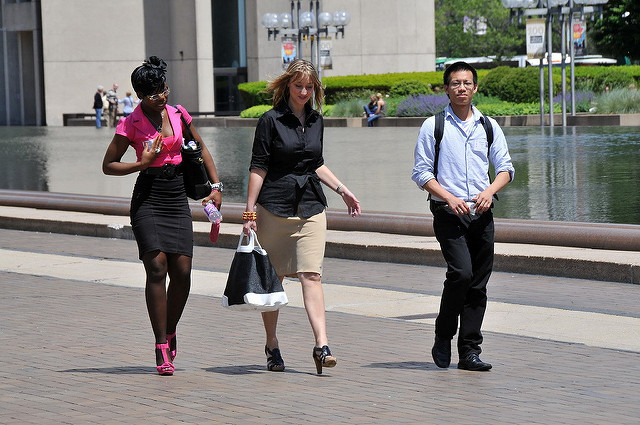pedestrian: (234, 51, 365, 380), (96, 54, 223, 380), (404, 58, 520, 375)
